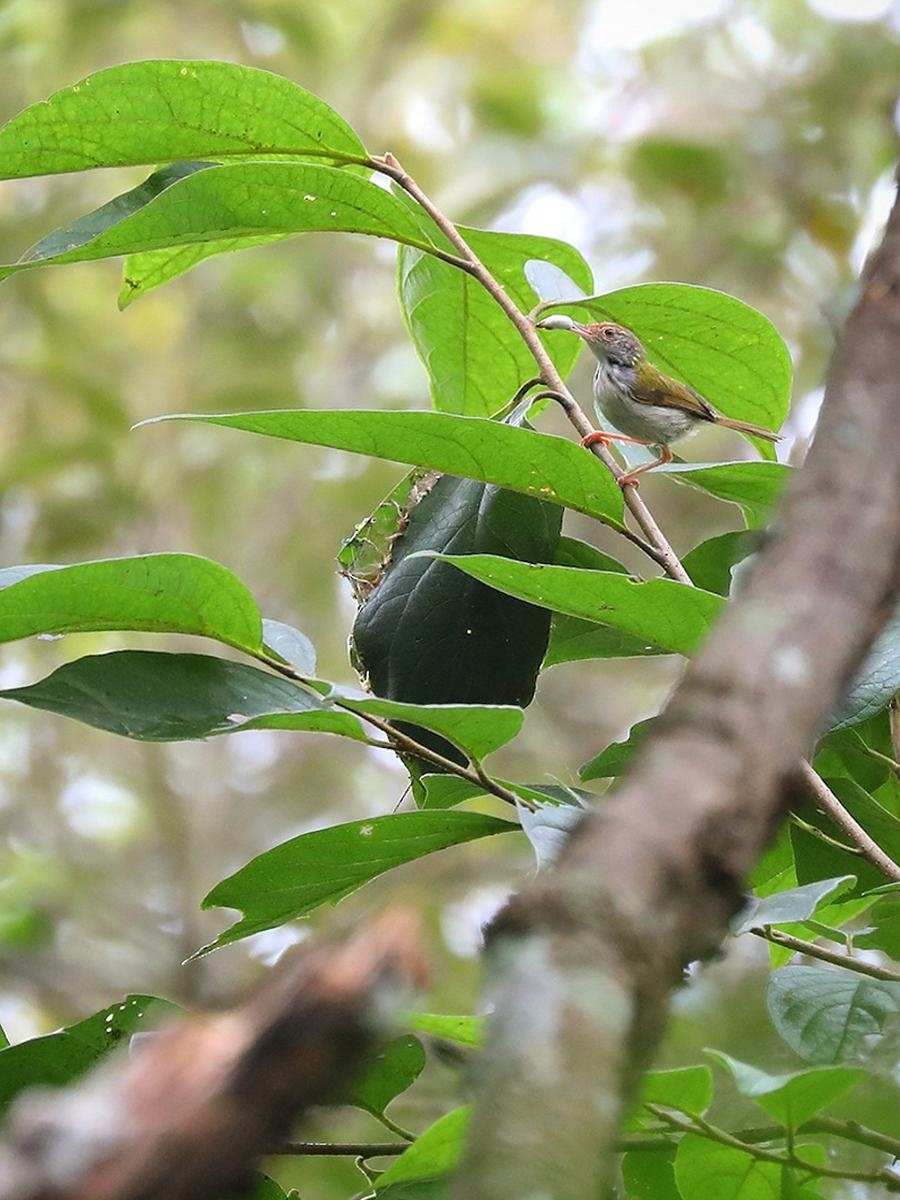tailorbird: (560, 298, 791, 470)
